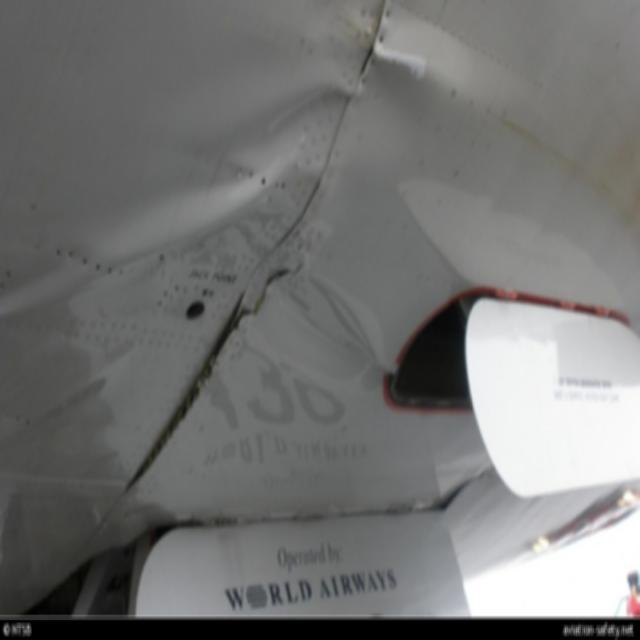crack: (227, 255, 307, 338)
dent: (4, 167, 274, 315), (221, 81, 354, 174), (353, 63, 434, 181)
